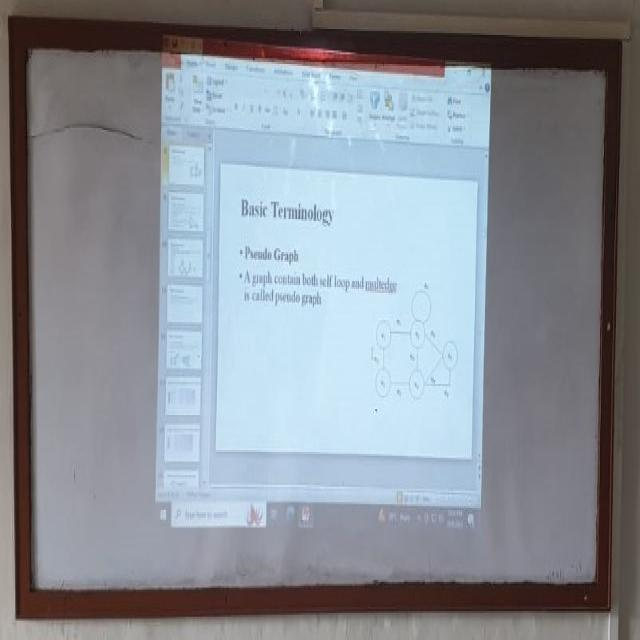Slide: (154, 26, 492, 539)
White-board: (20, 31, 614, 610)
